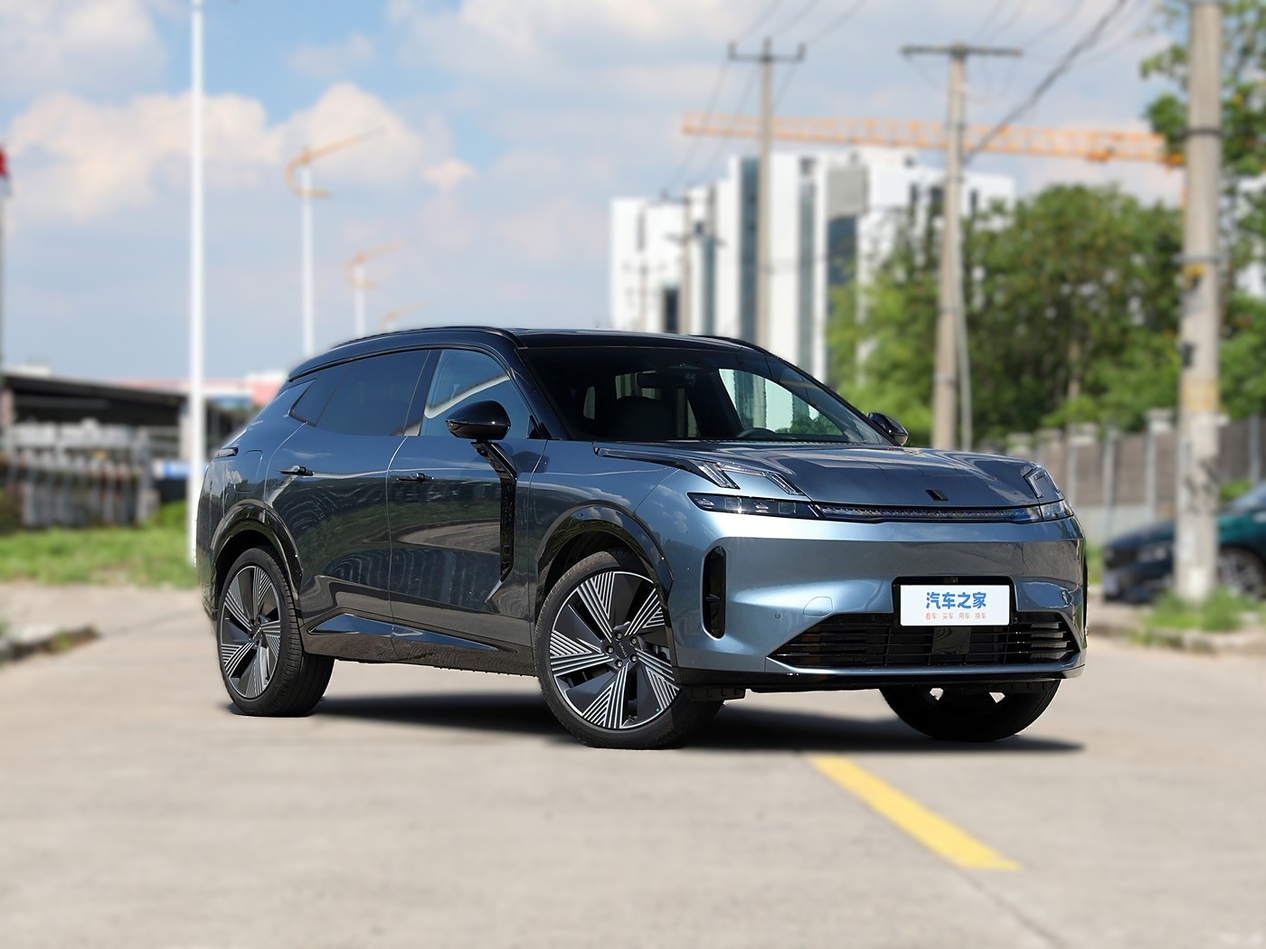LINK&CO: (927, 490, 950, 500)
